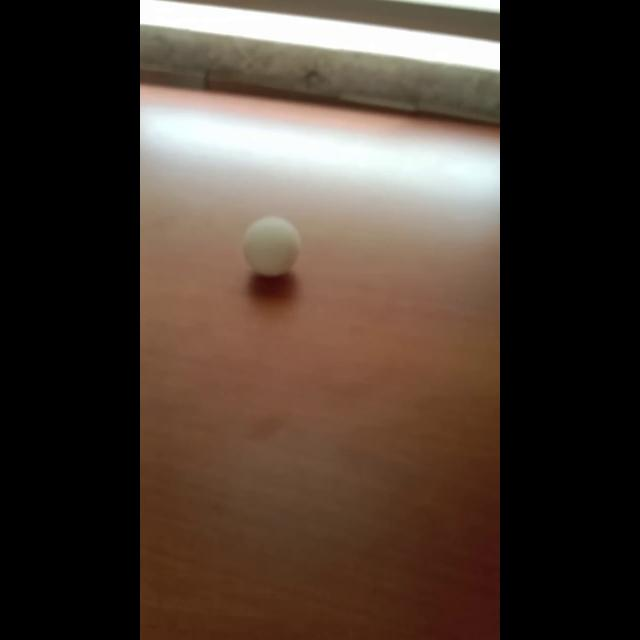white ball: (242, 215, 300, 277)
